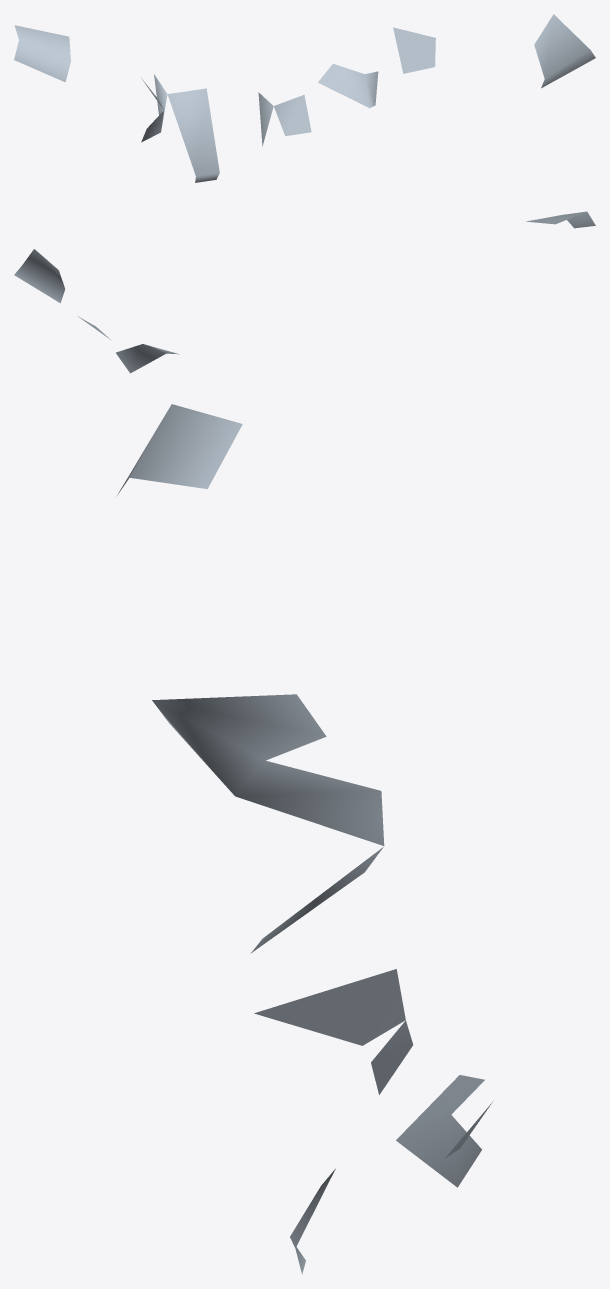
The model's file is palmar-carpometacarpal-ligaments-r.glb.
The picture shows the model from 3 angles, top to bottom: view 1: azimuth 30°, elevation 25°; view 2: azimuth 150°, elevation 25°; view 3: azimuth 270°, elevation 25°; orthographic projection. The views are drawn at different scales.
Parts seen in each view (by area): view 1: Palmar carpometacarpal ligaments.r; view 2: Palmar carpometacarpal ligaments.r; view 3: Palmar carpometacarpal ligaments.r.
Boxes of the visible parts, x1,y1,x2,y2 form: Palmar carpometacarpal ligaments.r: (14,14,595,182); Palmar carpometacarpal ligaments.r: (14,211,595,373); Palmar carpometacarpal ligaments.r: (117,404,492,1274).
Size of the model in its own units: 0.0429 by 0.0153 by 0.0129.
